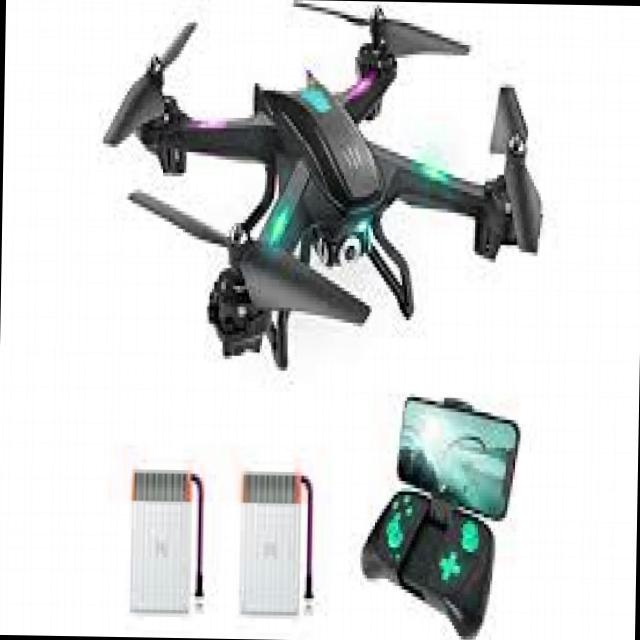drone: (87, 0, 578, 382)
